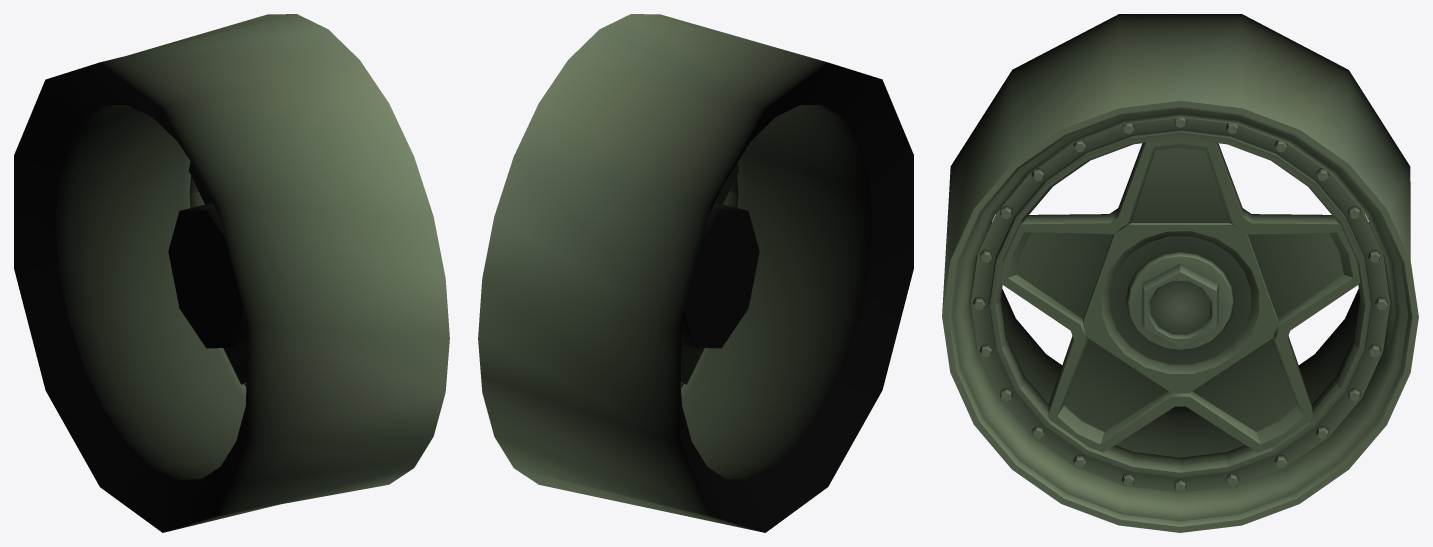
File: Alloy_F40Front.fbx
The picture shows the model from 3 angles, left to right: view 1: azimuth 30°, elevation 25°; view 2: azimuth 150°, elevation 25°; view 3: azimuth 270°, elevation 25°; orthographic projection.
Parts seen in each view (by area): view 1: Alloy_F40Front_Rim, Alloy_F40Front_Spoke; view 2: Alloy_F40Front_Rim, Alloy_F40Front_Spoke; view 3: Alloy_F40Front_Spoke, Alloy_F40Front_Rim.
Boxes of the visible parts, <box> form: Alloy_F40Front_Rim: <box>14,14,449,532</box>; Alloy_F40Front_Spoke: <box>168,162,247,386</box>; Alloy_F40Front_Rim: <box>478,14,913,532</box>; Alloy_F40Front_Spoke: <box>680,163,759,388</box>; Alloy_F40Front_Spoke: <box>970,117,1389,492</box>; Alloy_F40Front_Rim: <box>942,14,1418,532</box>.
Bounding box in the file's own units: 22.88 × 48.83 × 48.83.
